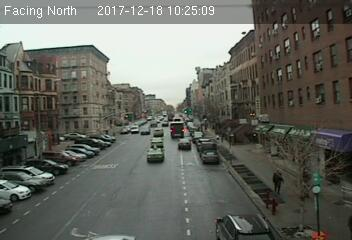car: (215, 209, 270, 240), (201, 148, 219, 163), (147, 146, 164, 161), (150, 137, 164, 147), (177, 139, 191, 148)
ups: (169, 123, 185, 140)
